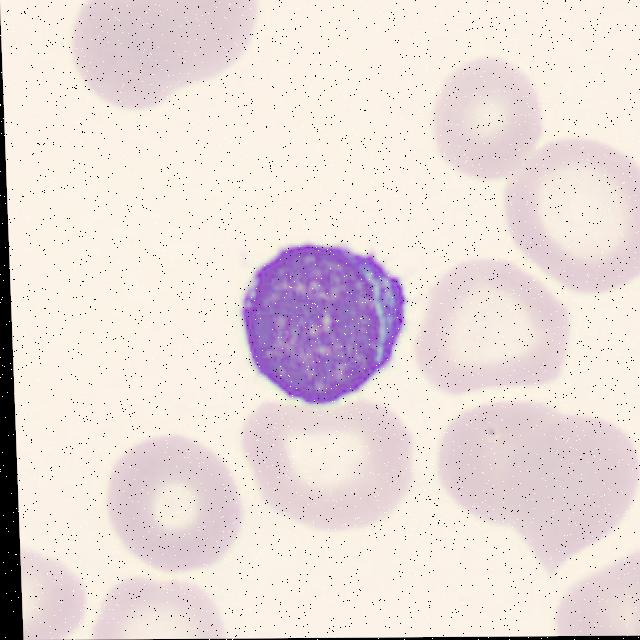lymphocyte: (237, 237, 409, 405)
rbc: (240, 394, 432, 533), (400, 264, 572, 402), (505, 144, 640, 298), (103, 430, 249, 571), (510, 419, 640, 572), (434, 398, 587, 527), (420, 66, 575, 183), (112, 0, 259, 87), (64, 0, 157, 108), (91, 576, 232, 639), (543, 552, 640, 636), (20, 534, 84, 640), (581, 535, 640, 636)
